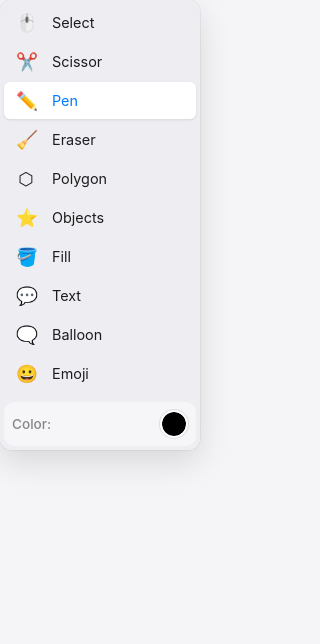
Toolbar › shows pen picker when pen tool is active and clicked
Click pen button to show submenu
Click the button "✏️ Pen" at (100, 100), box [4, 82, 196, 119]
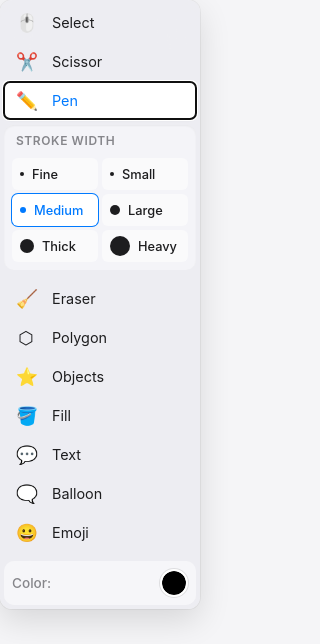
Now the text "Fine" is shown, box [32, 166, 58, 182]
Now the text "Small" is shown, box [122, 166, 155, 182]
Now the text "Medium" is shown, box [34, 202, 83, 218]
